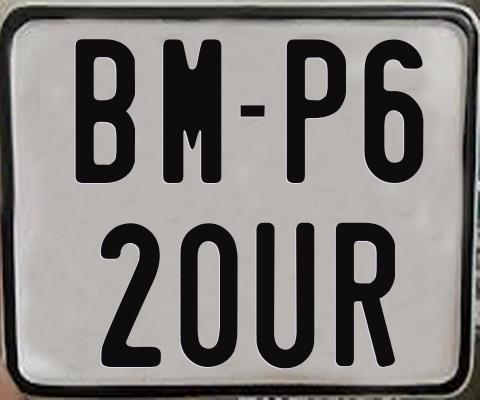0: (177, 222, 235, 369)
2: (101, 220, 166, 370)
6: (362, 36, 428, 182)
B: (75, 36, 134, 185)
M: (161, 37, 221, 181)
P: (286, 39, 346, 184)
R: (333, 223, 396, 370)
U: (256, 222, 318, 372)
